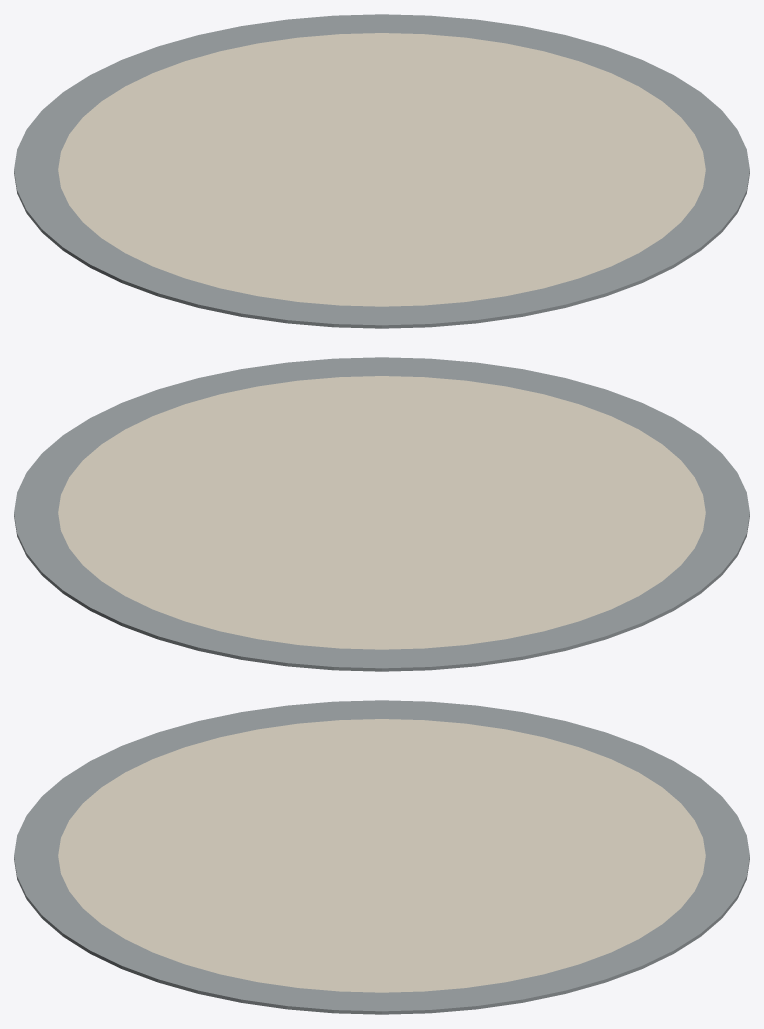
Rendered from pk_rug_round.glb.
3 renders of one model, top to bottom at view 1: azimuth 30°, elevation 25°; view 2: azimuth 150°, elevation 25°; view 3: azimuth 270°, elevation 25°, orthographic.
Parts seen in each view (by area): view 1: pk_rug_round; view 2: pk_rug_round; view 3: pk_rug_round.
Part boxes in pixels (x1,y1,x2,y2): pk_rug_round: [14, 14, 749, 328]; pk_rug_round: [14, 357, 749, 671]; pk_rug_round: [14, 700, 749, 1014].
Bounding box in the file's own units: 2.4 × 0.012 × 2.4.
Materials: 1 (1 with a texture image).
